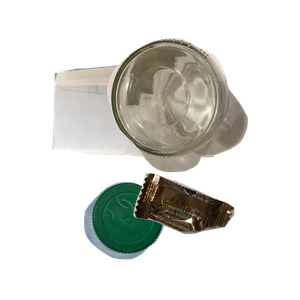glass: (105, 36, 300, 201)
paper: (50, 61, 257, 211)
plastic: (81, 179, 239, 300)
trash: (131, 171, 300, 300)
